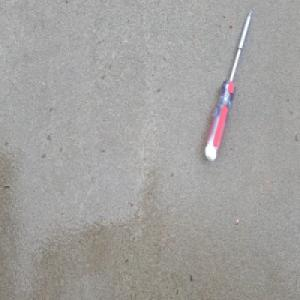Screwdriver: (203, 7, 253, 163)
